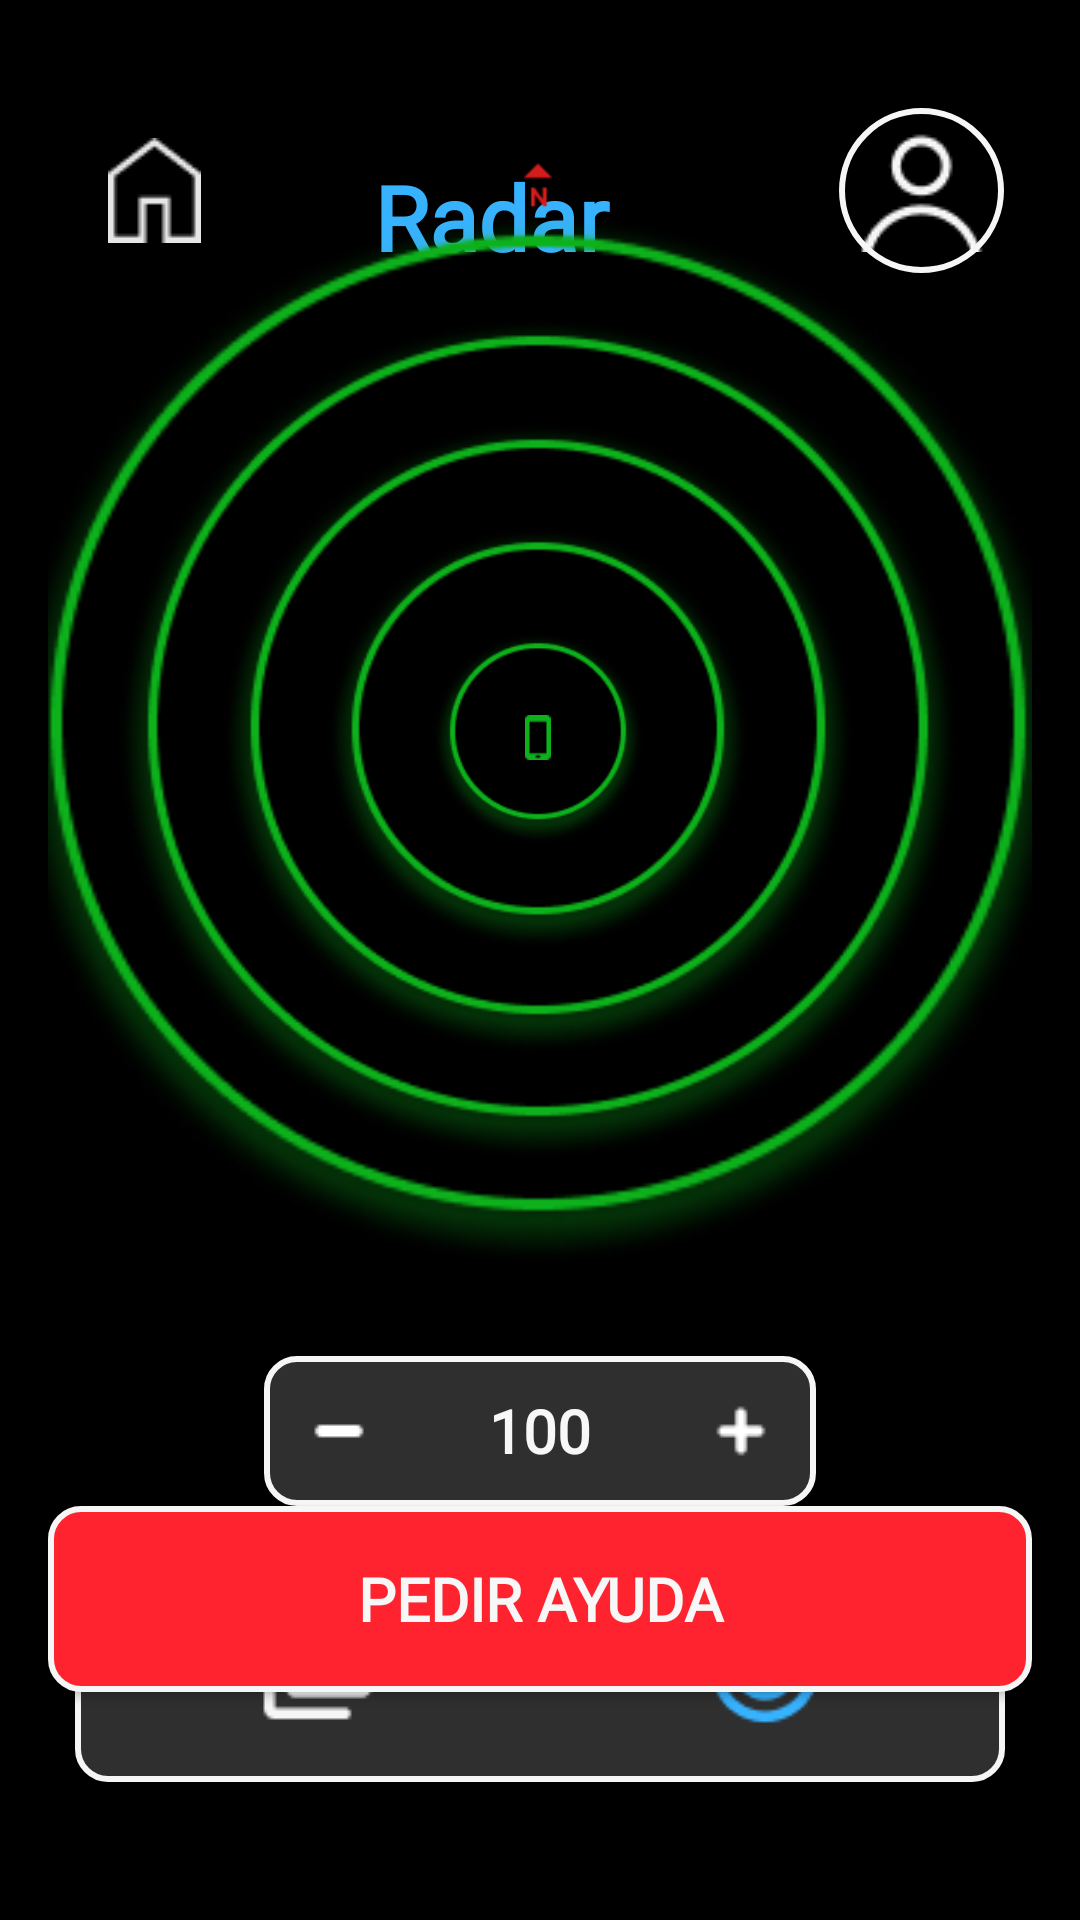

Point at icon controls on the screen. Image size 1080px×1920px, points as (x=x, y=y).
Aumentar Zoom: (x=741, y=1431)
Disminuir Zoom: (x=339, y=1431)
park user: (x=921, y=190)
